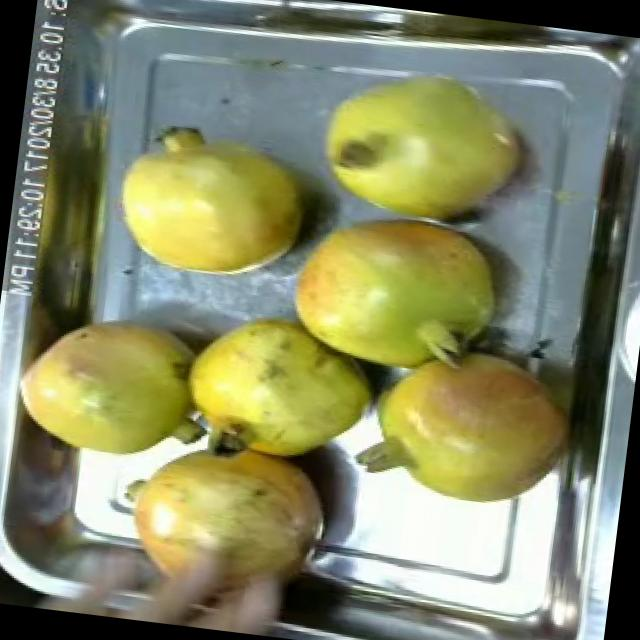fruit: (91, 422, 356, 640), (267, 189, 525, 395), (341, 319, 594, 526), (96, 96, 330, 300), (302, 48, 548, 240), (0, 293, 228, 483), (157, 291, 390, 474)
